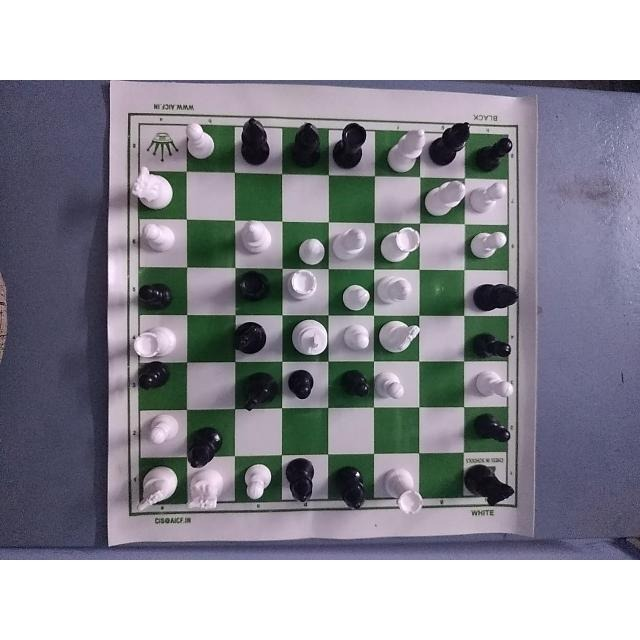black-bishop: (429, 116, 471, 168), (282, 454, 324, 506), (329, 464, 370, 515), (235, 112, 275, 164), (181, 423, 222, 473), (284, 119, 323, 169), (470, 280, 521, 314)
black-knight: (462, 457, 518, 509), (240, 367, 280, 412), (230, 316, 269, 359)
black-pawn: (471, 408, 513, 447), (476, 133, 514, 171), (136, 273, 173, 312), (137, 356, 171, 398), (334, 366, 373, 400), (471, 332, 512, 363), (287, 366, 318, 402)
black-rook: (334, 121, 373, 174), (235, 270, 275, 314)
white-bishop: (383, 128, 430, 174), (374, 272, 421, 316), (423, 177, 467, 221), (329, 224, 376, 264), (235, 218, 275, 252)
white-king: (286, 318, 328, 362)
white-knight: (131, 461, 178, 514), (130, 165, 178, 215), (179, 464, 225, 514), (379, 319, 421, 356)
white-pawn: (181, 119, 228, 162), (333, 272, 377, 314), (468, 178, 508, 218), (140, 219, 182, 257), (467, 227, 508, 264), (145, 410, 183, 449), (371, 366, 408, 404), (473, 372, 515, 404), (241, 461, 274, 501), (337, 317, 371, 354), (299, 232, 329, 271)
white-rook: (379, 457, 429, 517), (129, 322, 182, 364), (381, 227, 421, 263), (281, 268, 320, 302)
